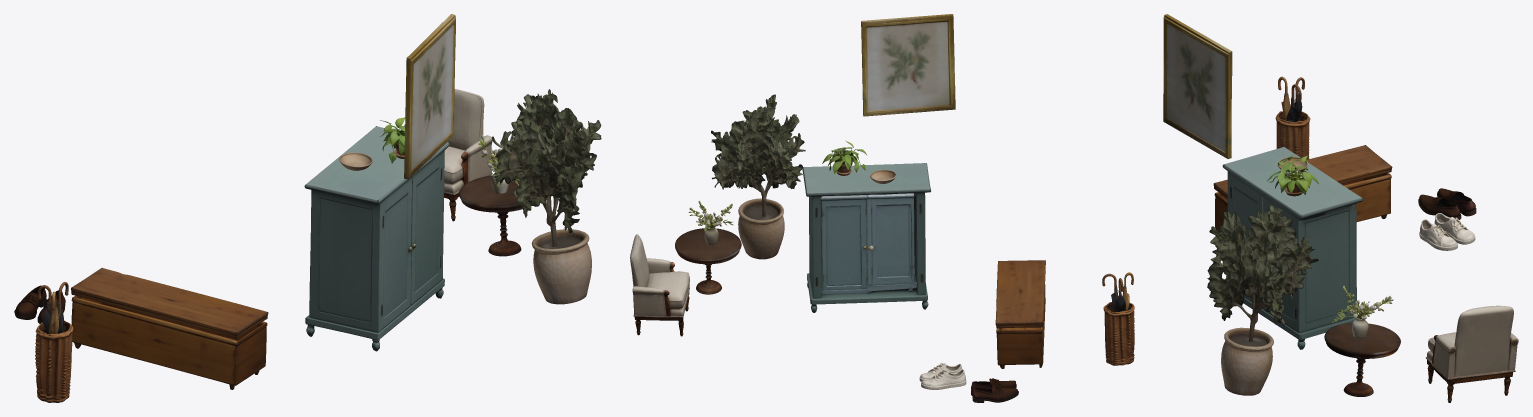
The model's file is entryway.glb.
3 views of the same model, side by side, from view 1: azimuth 30°, elevation 25°; view 2: azimuth 150°, elevation 25°; view 3: azimuth 270°, elevation 25° (orthographic). The views are drawn at different scales.
Visible parts, largest first — view 1: obj_0_part_0, obj_4_part_0, obj_1_part_0, obj_11_part_0, obj_1_part_1, obj_2_part_0, obj_5_part_0, obj_3_part_0, obj_10_part_0, obj_8_part_0, obj_6_part_0; view 2: obj_11_part_0, obj_4_part_0, obj_0_part_0, obj_0_part_1, obj_0_part_2, obj_2_part_0, obj_1_part_1, obj_5_part_0, obj_3_part_0, obj_1_part_0, obj_10_part_0, obj_9_part_0 (+2 smaller); view 3: obj_0_part_0, obj_4_part_0, obj_11_part_0, obj_2_part_0, obj_3_part_0, obj_1_part_1, obj_5_part_0, obj_1_part_0, obj_9_part_0, obj_10_part_0, obj_8_part_0, obj_6_part_0.
Part boxes in pixels (<box>): obj_0_part_0: <box>304,126,449,351</box>; obj_4_part_0: <box>492,89,601,304</box>; obj_1_part_0: <box>71,295,267,389</box>; obj_11_part_0: <box>404,14,455,179</box>; obj_1_part_1: <box>71,268,268,338</box>; obj_2_part_0: <box>444,89,492,221</box>; obj_5_part_0: <box>35,282,73,402</box>; obj_3_part_0: <box>459,175,537,256</box>; obj_10_part_0: <box>14,285,65,323</box>; obj_8_part_0: <box>379,117,405,163</box>; obj_6_part_0: <box>478,134,519,193</box>; obj_11_part_0: <box>861,14,955,116</box>; obj_4_part_0: <box>711,94,805,259</box>; obj_0_part_0: <box>802,163,930,312</box>; obj_0_part_1: <box>866,193,916,291</box>; obj_0_part_2: <box>820,195,868,294</box>; obj_2_part_0: <box>630,234,689,336</box>; obj_1_part_1: <box>995,260,1045,328</box>; obj_5_part_0: <box>1102,272,1134,365</box>; obj_3_part_0: <box>675,228,741,294</box>; obj_1_part_0: <box>996,284,1045,368</box>; obj_10_part_0: <box>971,378,1018,402</box>; obj_9_part_0: <box>919,362,966,389</box>; obj_0_part_0: <box>1222,147,1363,349</box>; obj_4_part_0: <box>1207,204,1318,395</box>; obj_11_part_0: <box>1163,14,1232,158</box>; obj_2_part_0: <box>1426,305,1518,402</box>; obj_3_part_0: <box>1324,323,1400,396</box>; obj_1_part_1: <box>1213,145,1392,198</box>; obj_5_part_0: <box>1275,76,1310,159</box>; obj_1_part_0: <box>1214,173,1391,231</box>; obj_9_part_0: <box>1419,213,1475,250</box>; obj_10_part_0: <box>1418,188,1476,219</box>; obj_8_part_0: <box>1267,155,1318,196</box>; obj_6_part_0: <box>1331,286,1393,338</box>.
Bounding box in the file's own units: 5.73 × 3.2 × 3.57.
6 materials, 5 textured.
